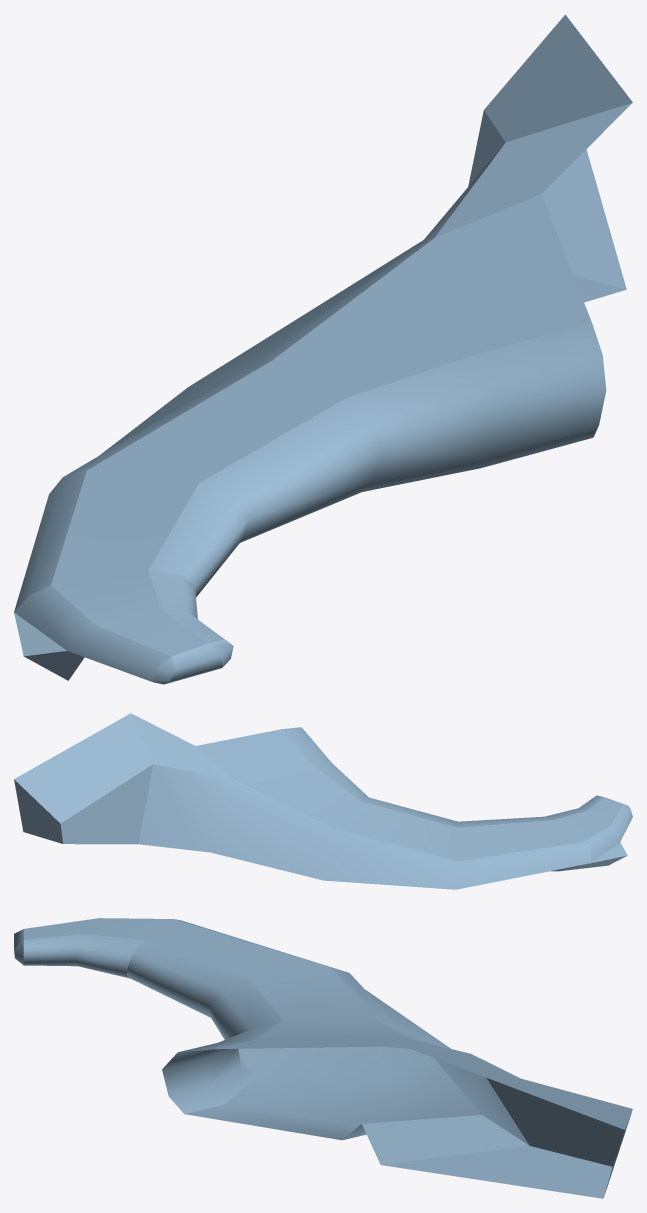
File: horn wing R.FBX
The picture shows the model from 3 angles, top to bottom: view 1: azimuth 30°, elevation 25°; view 2: azimuth 150°, elevation 25°; view 3: azimuth 270°, elevation 25°; orthographic projection. The views are drawn at different scales.
Parts seen in each view (by area): view 1: Object04; view 2: Object04; view 3: Object04.
Boxes of the visible parts, x1=… form: Object04: x1=14, y1=14, x2=632, y2=684; Object04: x1=14, y1=713, x2=632, y2=889; Object04: x1=14, y1=918, x2=632, y2=1198.
Size of the model in its own units: 0.1449 by 0.1176 by 0.0403.
